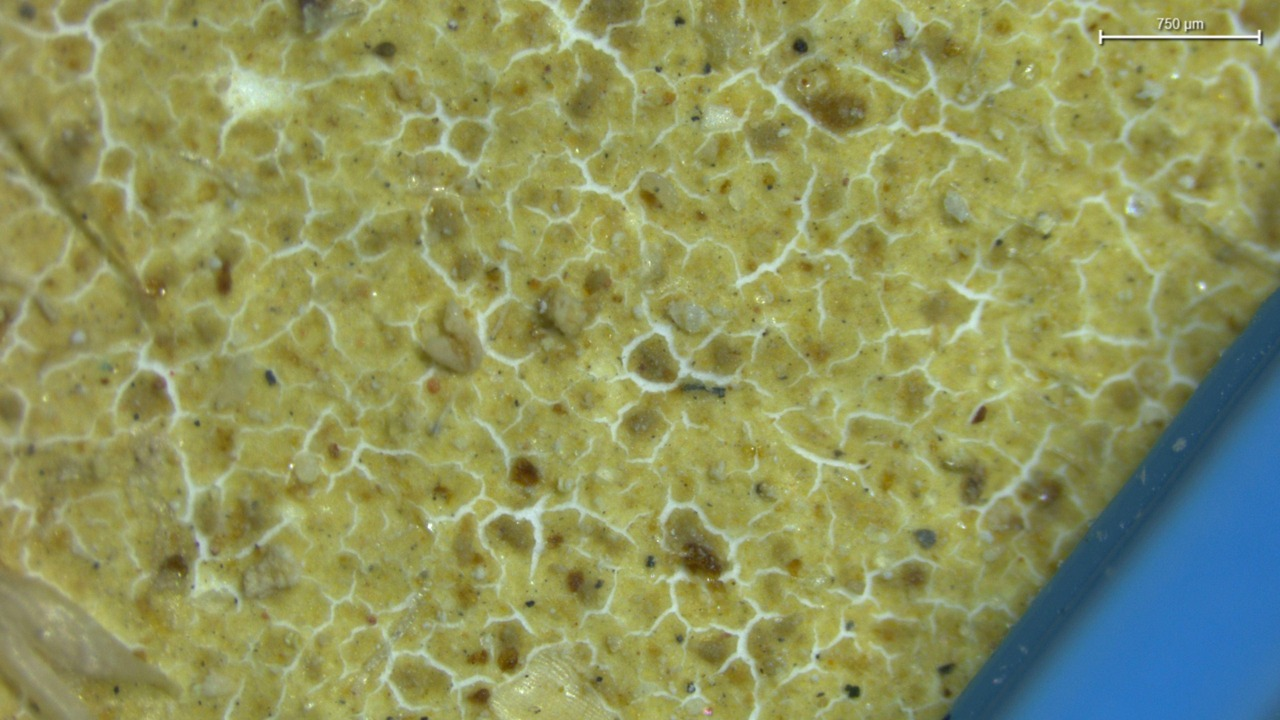microplastic_fragment: (417, 304, 483, 373), (536, 286, 588, 337)
